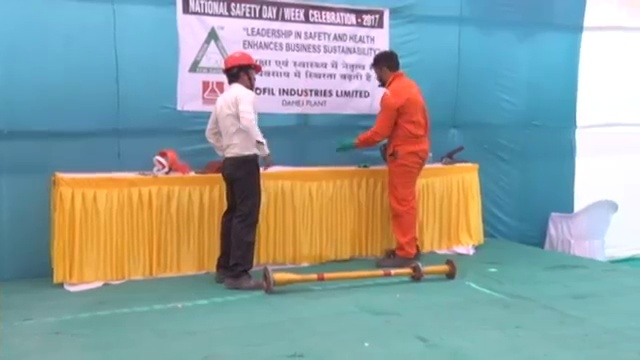helmet: (221, 48, 262, 78)
helmet_off: (369, 50, 401, 90)
helmet_on: (221, 52, 264, 87)
person: (351, 48, 431, 265), (201, 47, 270, 294)
